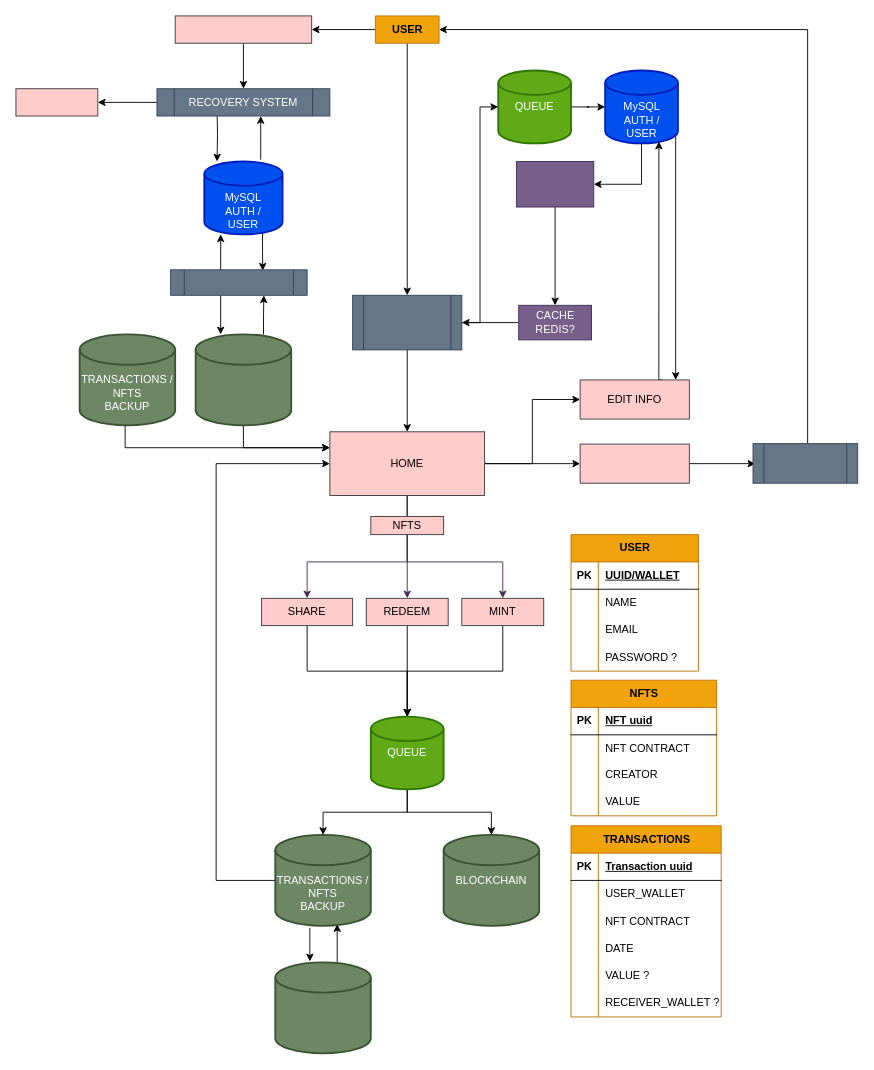
This 874x1070 diagram has some shape labels left out. Here are the shapes that lost their labels. From the top down, the box of each, then its label:
(174, 15, 312, 43): RECOVER ACCOUNT
(15, 88, 98, 116): SEND EMAIL
(516, 161, 594, 207): API KEY / WALLET / USER INFO
(170, 269, 307, 295): HEALTH CHECK
(352, 294, 462, 350): LOGIN/ REGISTER
(194, 333, 292, 426): MySQL TRANSACTIONS/ NFTS
(579, 443, 689, 483): INVITE FRIEND
(752, 443, 858, 483): INVITATION SYSTEM
(274, 961, 371, 1054): MySQL TRANSACTIONS / NFTS
